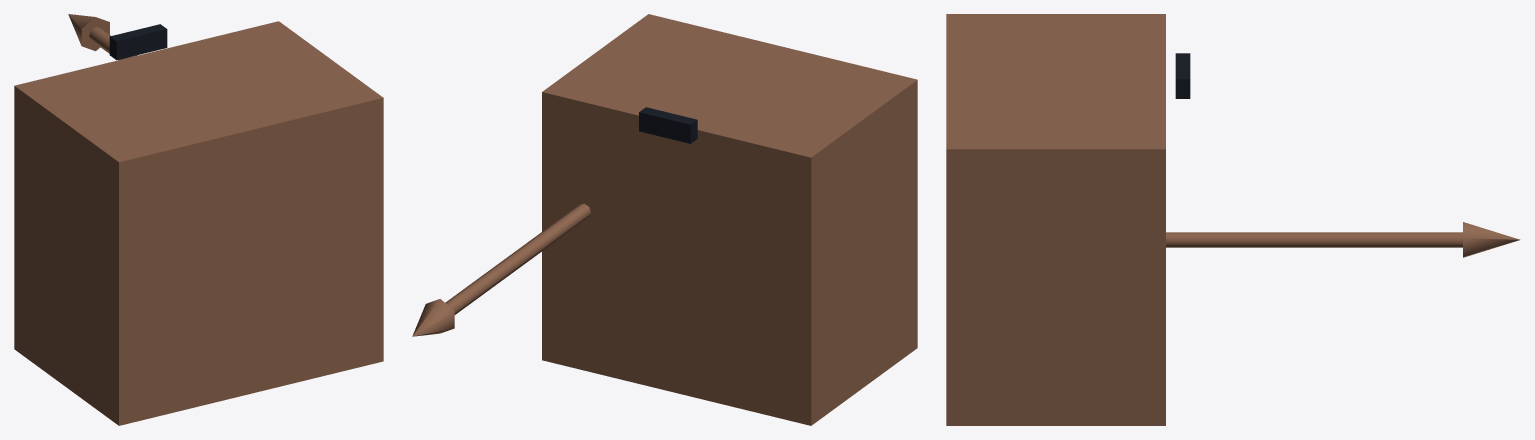
The model's file is enemy-playground-boar-helm-charger-v1.glb.
The picture shows the model from 3 angles, left to right: view 1: azimuth 30°, elevation 25°; view 2: azimuth 150°, elevation 25°; view 3: azimuth 270°, elevation 25°; orthographic projection. The views are drawn at different scales.
Parts seen in each view (by area): view 1: Boar Helm Charger; view 2: Boar Helm Charger; view 3: Boar Helm Charger.
Part boxes in pixels (bbox=[...]): Boar Helm Charger: bbox=[14, 14, 383, 425]; Boar Helm Charger: bbox=[412, 14, 917, 425]; Boar Helm Charger: bbox=[946, 14, 1520, 425].
Size of the model in its own units: 1.77 by 1.78 by 3.18.
